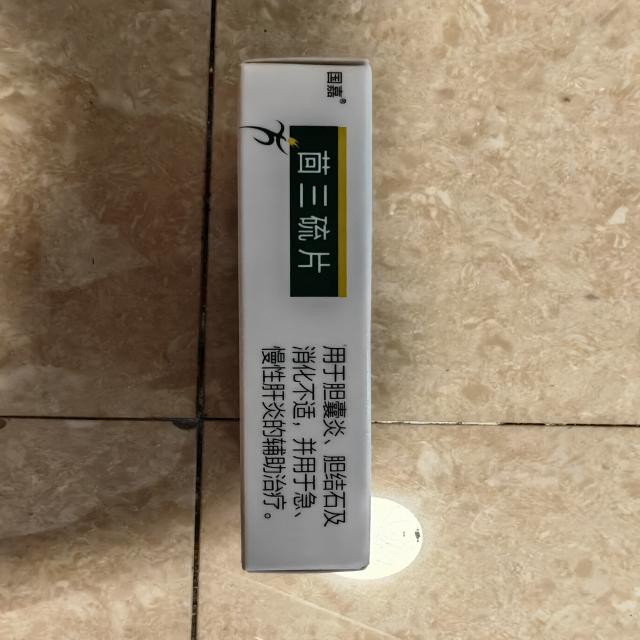box: (221, 51, 388, 584)
